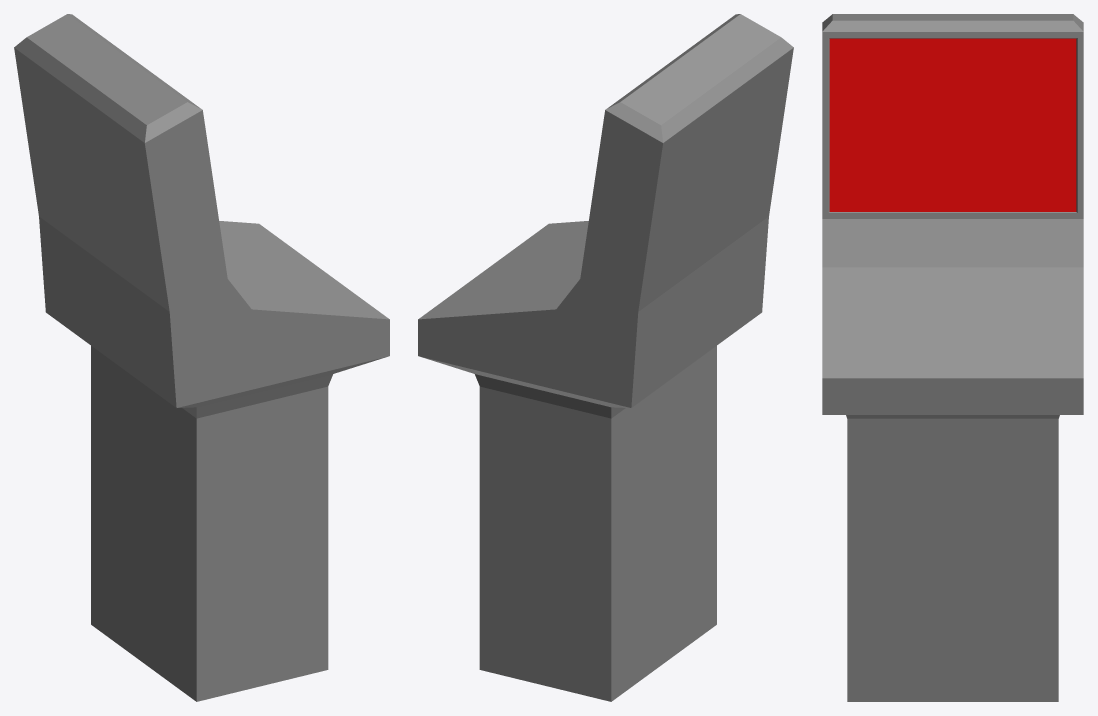
The model's file is SimpleConsole.FBX.
3 views of the same model, side by side, from view 1: azimuth 30°, elevation 25°; view 2: azimuth 150°, elevation 25°; view 3: azimuth 270°, elevation 25° (orthographic).
Visible parts, largest first — view 1: Console; view 2: Console; view 3: Console.
Boxes of the visible parts, left/top/right/bottom form: Console: left=14, top=14, right=389, bottom=701; Console: left=418, top=14, right=793, bottom=701; Console: left=822, top=14, right=1083, bottom=701.
Size of the model in its own units: 27.06 by 64.26 by 25.
